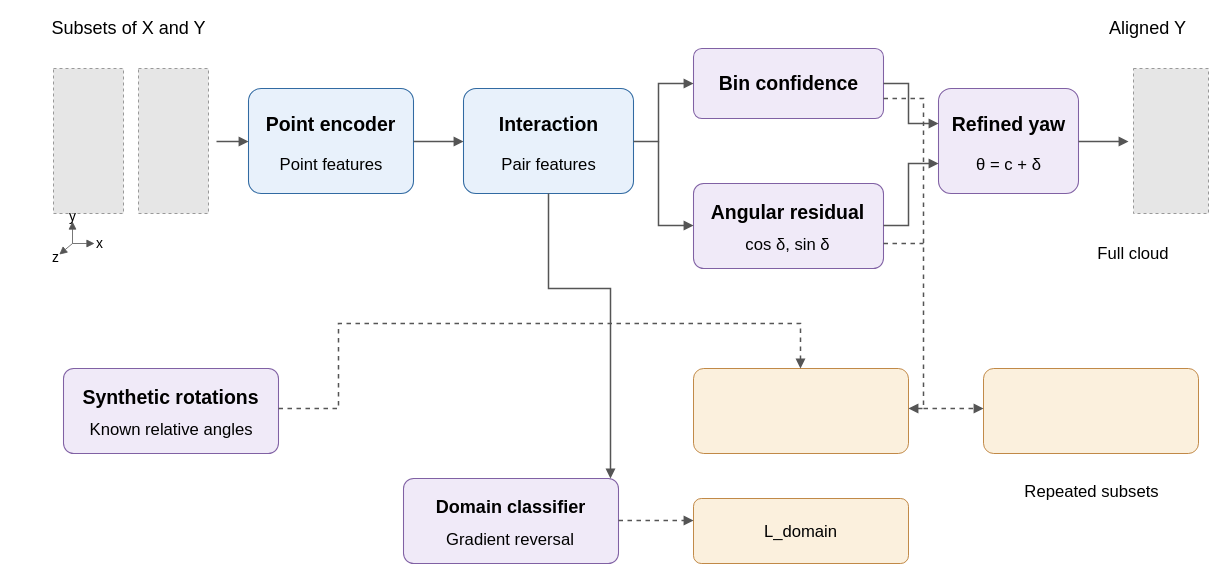
This 1226x581 diagram has some shape labels left out. Grey dashed boxes stand in for pictures. Each missing label, with the box of its shape:
L_bin + L_res: (693, 368, 908, 454)
L_subset: (983, 368, 1198, 454)
